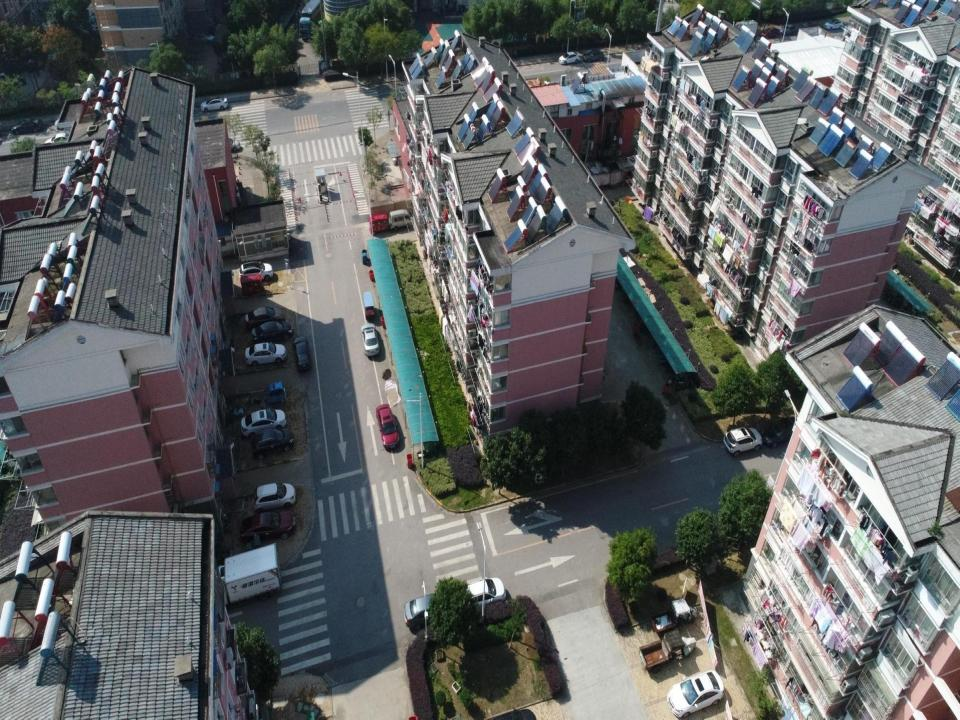car: (668, 670, 724, 718), (240, 510, 295, 543), (456, 577, 506, 612), (404, 593, 447, 630), (250, 428, 295, 460), (252, 481, 296, 512), (240, 408, 286, 437), (723, 427, 763, 457), (376, 404, 400, 450), (244, 342, 286, 368), (762, 417, 796, 448), (251, 319, 293, 343), (239, 261, 273, 285), (244, 306, 284, 326), (292, 335, 312, 371), (361, 322, 380, 356), (10, 118, 44, 135), (200, 96, 228, 112), (558, 51, 581, 65), (192, 30, 214, 44), (582, 49, 604, 63), (799, 22, 819, 35), (823, 19, 844, 30), (762, 26, 780, 38), (781, 24, 799, 35), (746, 29, 761, 39)
truck: (214, 542, 282, 612), (299, 0, 325, 40)
van: (388, 209, 414, 230)
